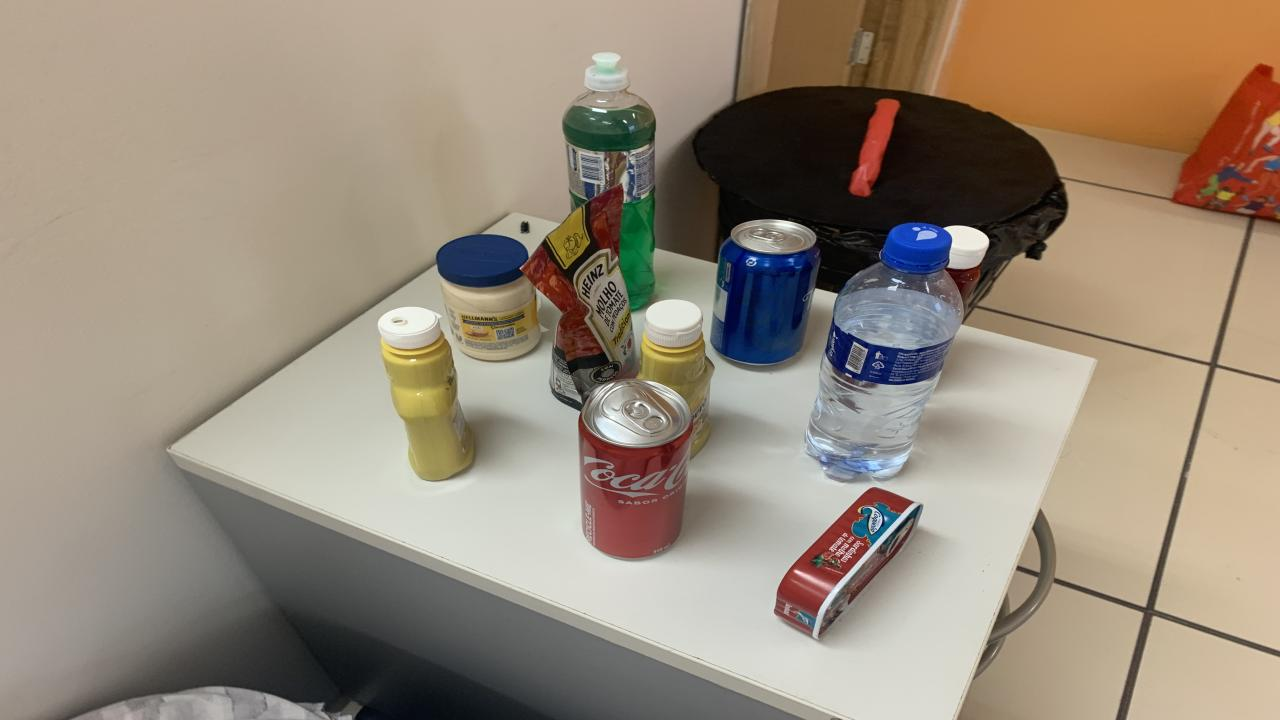Coke-Drinks: (578, 379, 692, 559)
Detergent-Cleanup_Items: (562, 52, 655, 309)
Mayonnaise-Pantry_Items: (438, 234, 540, 360)
Mustard-Pantry_Items: (378, 308, 472, 480), (638, 300, 715, 456)
Tomato_Sauce-Pantry_Items: (522, 186, 638, 409)
Tonic-Drinks: (710, 219, 820, 364)
Tuna_Can-Pantry_Items: (775, 488, 922, 638)
Water_Bottle-Drinks: (805, 221, 965, 480)
